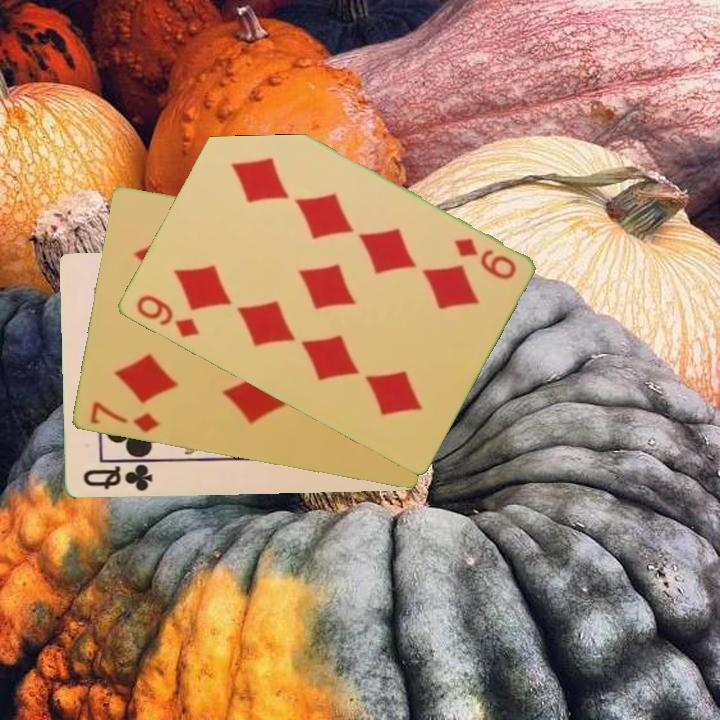7d: (86, 398, 162, 436)
9d: (132, 291, 202, 341), (449, 234, 519, 283)
Qc: (79, 461, 155, 495)
